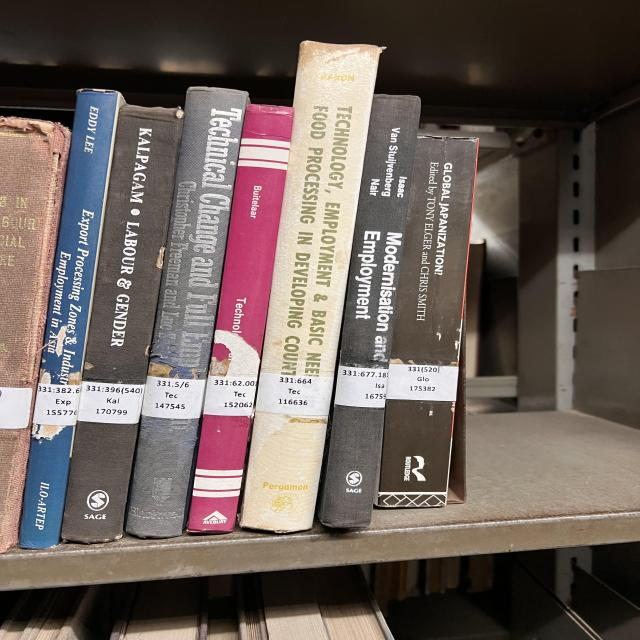Book: (240, 41, 380, 532), (125, 88, 248, 539), (62, 105, 183, 544), (20, 90, 123, 549), (188, 105, 293, 534), (318, 95, 420, 529), (377, 136, 478, 509)
Label: (257, 372, 333, 415), (78, 381, 145, 424), (142, 376, 207, 419), (387, 364, 458, 401), (335, 366, 388, 408), (203, 376, 257, 416), (33, 384, 80, 426)
